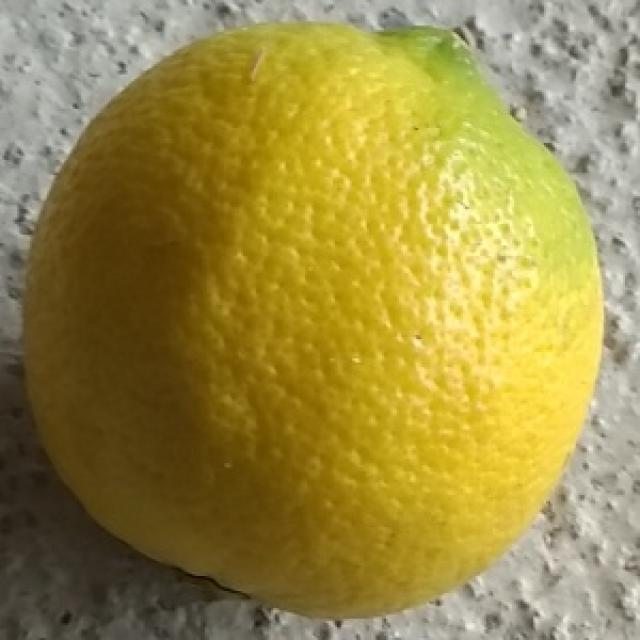Lemon: (21, 14, 606, 619)
